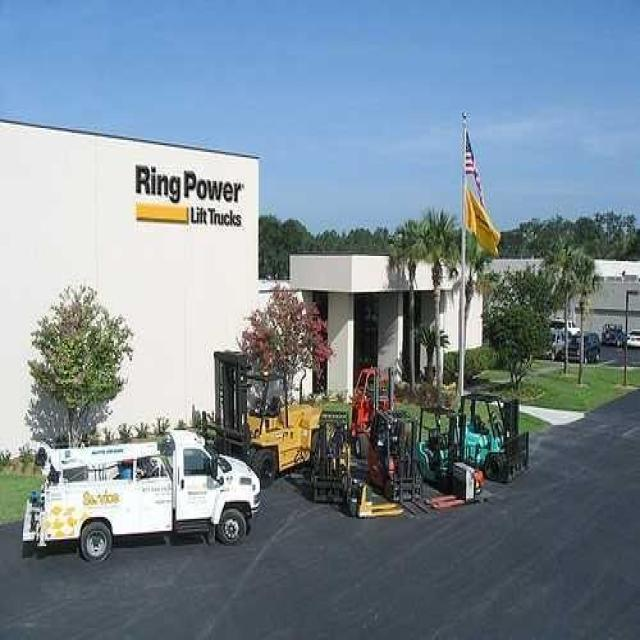forklift: (370, 413, 421, 500), (417, 407, 467, 495), (310, 411, 355, 505)
